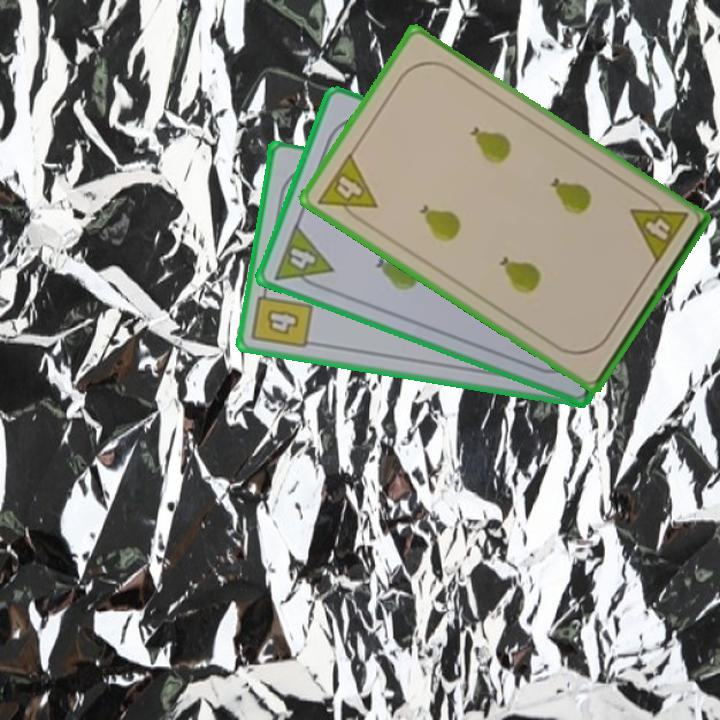4b: (248, 281, 316, 352)
4p: (314, 149, 380, 228), (626, 189, 691, 267), (271, 220, 336, 295)
